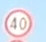limite 40: (3, 7, 33, 38)
